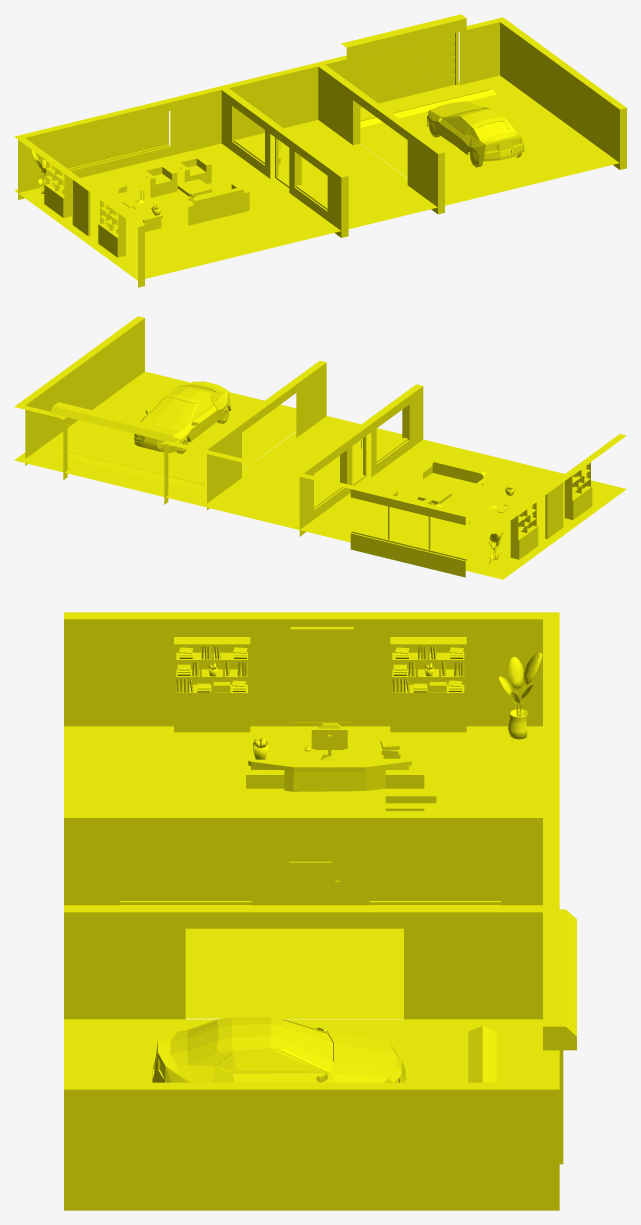
Rendered from Khu m boss.gltf.
3 views of the same model, one above another, from view 1: azimuth 30°, elevation 25°; view 2: azimuth 150°, elevation 25°; view 3: azimuth 270°, elevation 25° (orthographic). The views are drawn at different scales.
Visible parts, largest first — view 1: Khu m boss; view 2: Khu m boss; view 3: Khu m boss.
Part boxes in pixels (left/top/right/bottom): Khu m boss: left=14, top=14, right=626, bottom=287; Khu m boss: left=14, top=316, right=626, bottom=579; Khu m boss: left=64, top=612, right=576, bottom=1210.
Size of the model in its own units: 82.34 by 11.61 by 37.37.
Materials: 1 (1 with a texture image).
